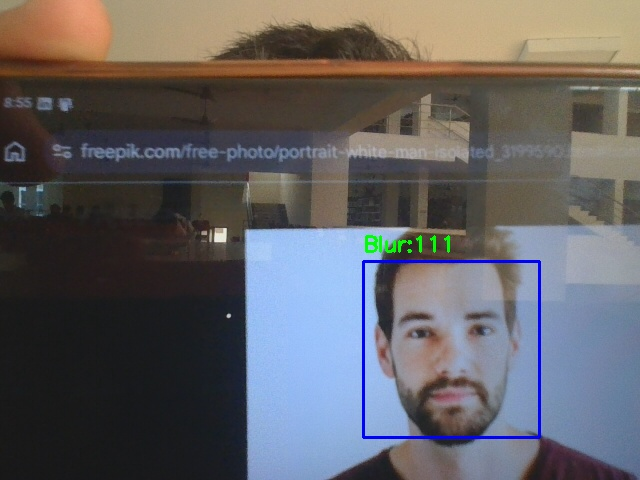fake: (363, 261, 539, 437)
